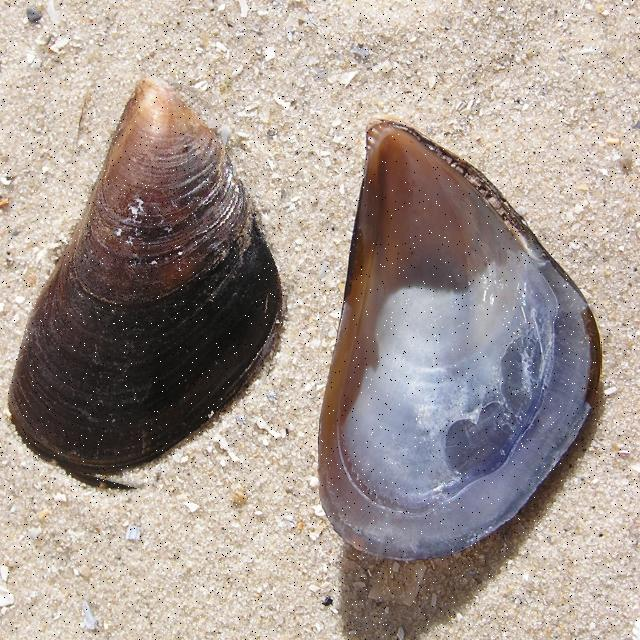Mytilus_galloprovincialis: (16, 75, 310, 501), (319, 120, 602, 558)
